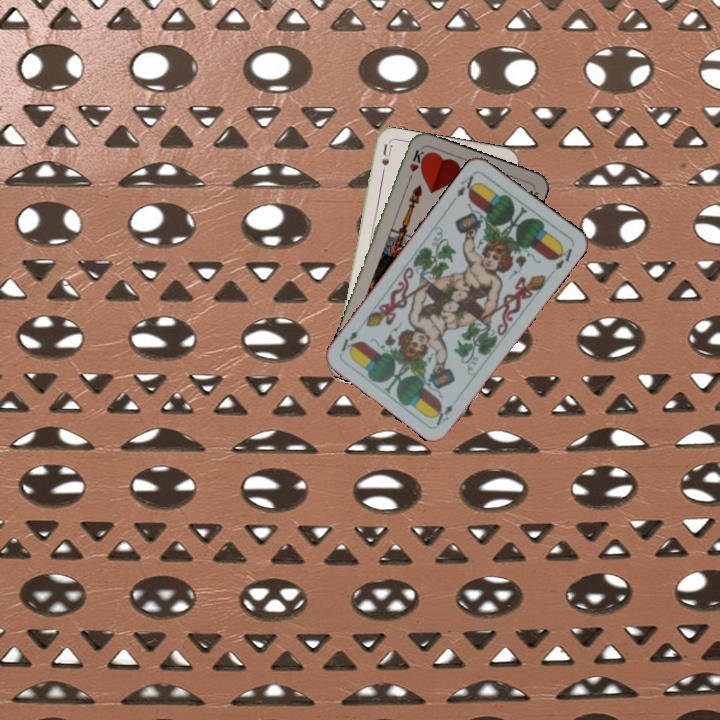EA: (452, 169, 480, 200), (431, 400, 456, 428)
HK: (404, 146, 427, 185)
SU: (377, 141, 394, 182)
